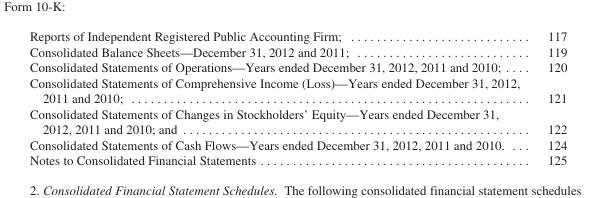table: (28, 28, 566, 167)
table column: (28, 28, 533, 167), (533, 28, 566, 167)
table row: (28, 74, 566, 105), (28, 105, 566, 136), (28, 43, 566, 59), (28, 136, 566, 152), (28, 28, 566, 43), (28, 59, 566, 74), (28, 152, 566, 167)
